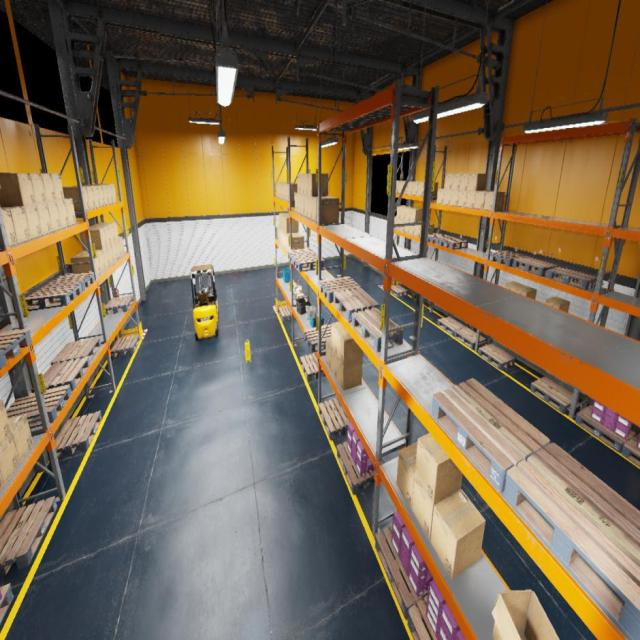box: (430, 489, 486, 579), (415, 433, 462, 504), (492, 590, 560, 639), (412, 476, 460, 541), (397, 442, 418, 509), (0, 172, 35, 206), (9, 414, 33, 463), (1, 206, 30, 244), (0, 432, 19, 485), (337, 329, 362, 365), (337, 356, 362, 390), (70, 252, 101, 276), (65, 187, 95, 209), (63, 187, 90, 211), (78, 250, 106, 273), (0, 208, 16, 248), (72, 186, 100, 208), (80, 228, 107, 250), (317, 197, 339, 224), (24, 205, 41, 239), (0, 399, 12, 446), (312, 196, 333, 222), (36, 203, 52, 235), (30, 173, 46, 204), (82, 185, 105, 206), (91, 223, 115, 243), (331, 322, 345, 355), (308, 173, 328, 196), (41, 173, 56, 203), (90, 225, 111, 246), (86, 185, 109, 204), (95, 222, 118, 241), (545, 296, 570, 313), (47, 201, 61, 231), (93, 184, 113, 203), (484, 192, 505, 210), (51, 173, 64, 201), (56, 200, 69, 228), (474, 191, 492, 210), (514, 285, 536, 300), (468, 173, 487, 190), (65, 199, 76, 225), (287, 232, 301, 250), (281, 182, 294, 200), (289, 235, 304, 250), (285, 216, 298, 233), (423, 182, 438, 196), (286, 183, 297, 201), (420, 223, 434, 237), (331, 347, 337, 379), (325, 338, 331, 369), (504, 282, 524, 291), (102, 246, 110, 268), (410, 208, 422, 222), (288, 184, 297, 202), (278, 212, 288, 228), (466, 192, 476, 208), (401, 207, 413, 220), (458, 190, 467, 207), (276, 182, 286, 197), (282, 214, 290, 232), (459, 174, 468, 190), (450, 190, 459, 206), (405, 208, 416, 221), (111, 241, 118, 261), (280, 213, 288, 230), (118, 237, 125, 256), (396, 206, 407, 218), (403, 181, 413, 194), (452, 174, 460, 190), (444, 189, 452, 205), (436, 188, 444, 204), (108, 244, 114, 265), (444, 174, 452, 189), (111, 184, 117, 203), (115, 239, 121, 258), (280, 182, 286, 199), (304, 195, 308, 218), (308, 196, 312, 219), (412, 182, 419, 195), (300, 173, 304, 195), (284, 183, 289, 200), (300, 194, 304, 215), (418, 182, 424, 196), (294, 192, 298, 212), (409, 222, 415, 235), (404, 220, 410, 233), (407, 182, 413, 195), (398, 180, 404, 193), (304, 173, 307, 195), (414, 226, 420, 237), (400, 219, 405, 232), (294, 285, 302, 293), (297, 173, 300, 194), (0, 472, 3, 491), (396, 218, 400, 231), (294, 290, 300, 298), (298, 193, 300, 213), (290, 283, 296, 289), (294, 285, 300, 291), (297, 293, 304, 298), (284, 232, 286, 249), (278, 182, 280, 198), (279, 226, 281, 242), (282, 231, 284, 246), (280, 229, 282, 244), (277, 226, 279, 240), (394, 216, 396, 229), (396, 180, 398, 193)
forklift: (190, 264, 218, 341)
pallets: (503, 442, 639, 639), (432, 379, 550, 492), (374, 524, 428, 620), (0, 497, 57, 578), (575, 404, 636, 453), (6, 385, 72, 428), (48, 410, 102, 461), (337, 441, 381, 495), (352, 307, 404, 352), (31, 356, 90, 392), (530, 377, 580, 414), (26, 282, 82, 310), (334, 288, 379, 322), (51, 337, 102, 366), (318, 397, 351, 440), (408, 594, 438, 640), (0, 328, 33, 369), (547, 267, 597, 290), (319, 276, 361, 303), (44, 272, 95, 292), (478, 344, 515, 370), (513, 256, 558, 276), (304, 324, 331, 352), (300, 354, 326, 382), (110, 334, 140, 358), (454, 328, 486, 350), (490, 250, 528, 267), (621, 434, 640, 467), (0, 584, 14, 626), (438, 316, 466, 336), (293, 254, 324, 272), (105, 295, 134, 314), (287, 248, 316, 264), (439, 237, 469, 249), (278, 305, 296, 321), (428, 233, 452, 244), (390, 284, 408, 297)
